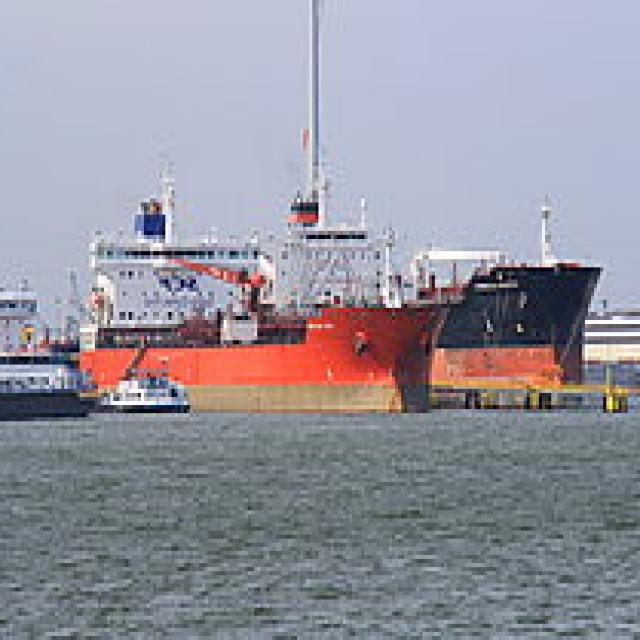Tanker: (80, 162, 456, 409), (272, 182, 610, 381)
